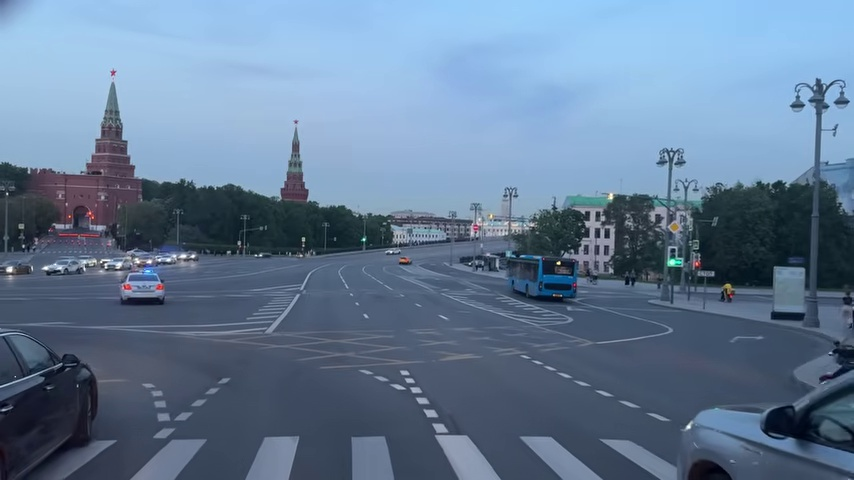apagada: (787, 76, 852, 117), (655, 147, 686, 172), (788, 91, 814, 116), (788, 98, 807, 116)
